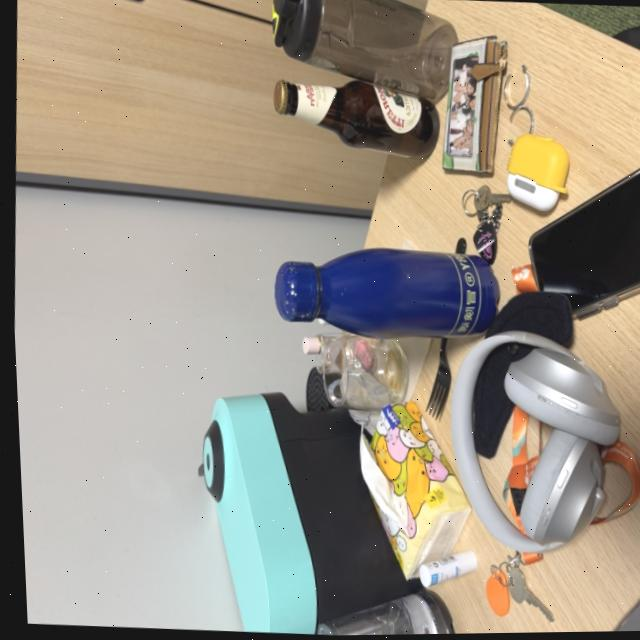beer: (263, 66, 444, 169)
